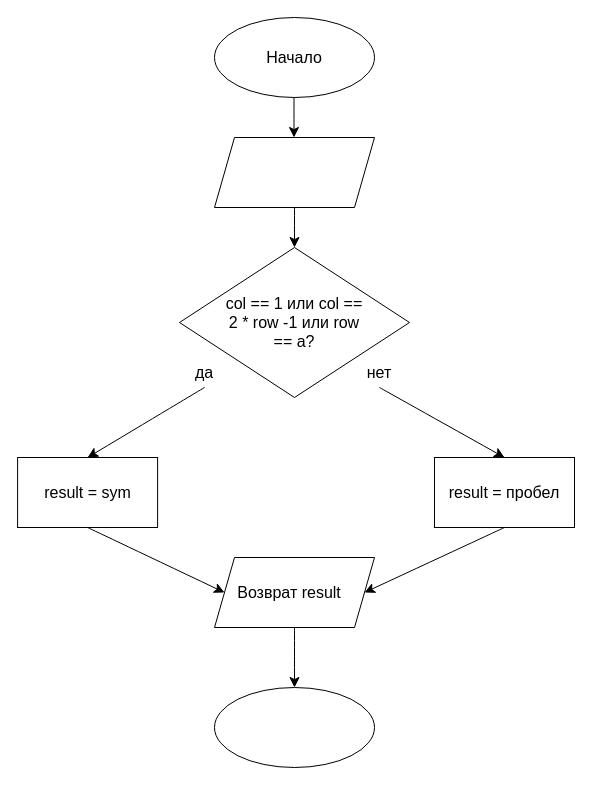
This 592x785 diagram has some shape labels left out. Here are the shapes that lost their labels. From the top down, the centre of each, then its label:
[294,172]: Получение row, col, a, sym
[294,727]: Конец
